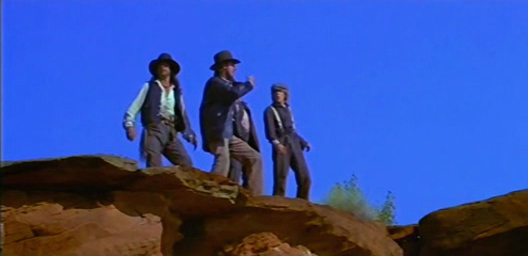els: (1, 1, 528, 256)
face: (222, 62, 237, 77), (157, 63, 171, 77), (272, 87, 284, 102)
person: (199, 49, 263, 195), (121, 51, 198, 167), (262, 82, 312, 200)
